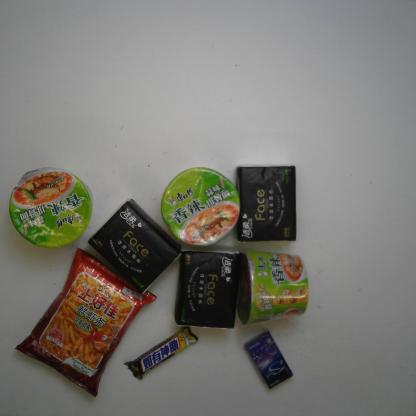Chocolate: (123, 326, 199, 381)
Gum: (243, 328, 294, 390)
Instant Noodles: (158, 164, 245, 250), (6, 165, 95, 249), (234, 250, 311, 326)
Puffed Food: (15, 247, 159, 398)
Tissue: (86, 198, 184, 297), (174, 250, 240, 330), (235, 163, 300, 244)
